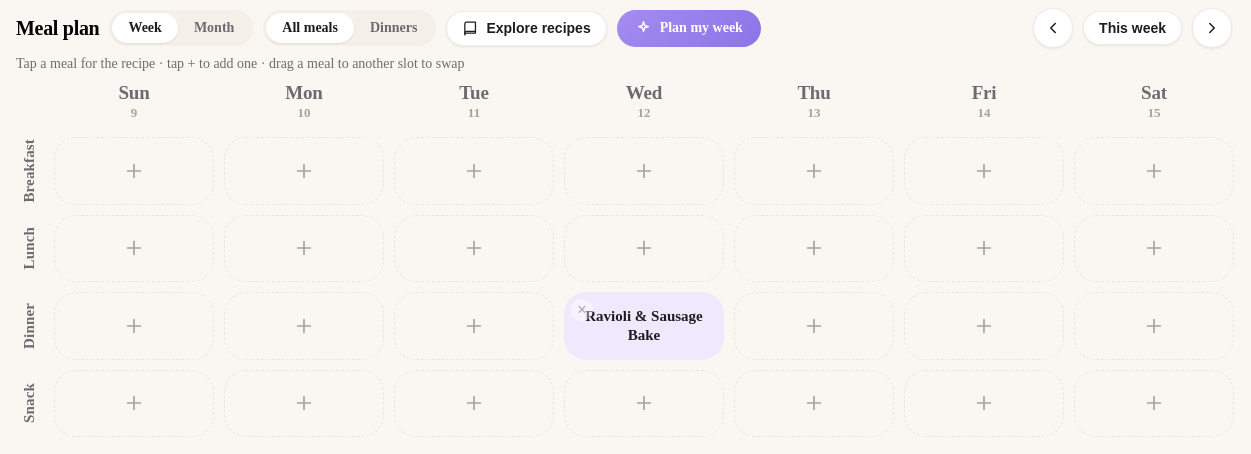
Test: Meals weekly planner › filters to dinners only
Expected: the text "Ravioli & Sausage Bake" is shown, top-left (577, 307), bottom-right (711, 344)
Click the button "Dinners". click: (394, 28)
box: top-left (354, 13), bottom-right (433, 43)
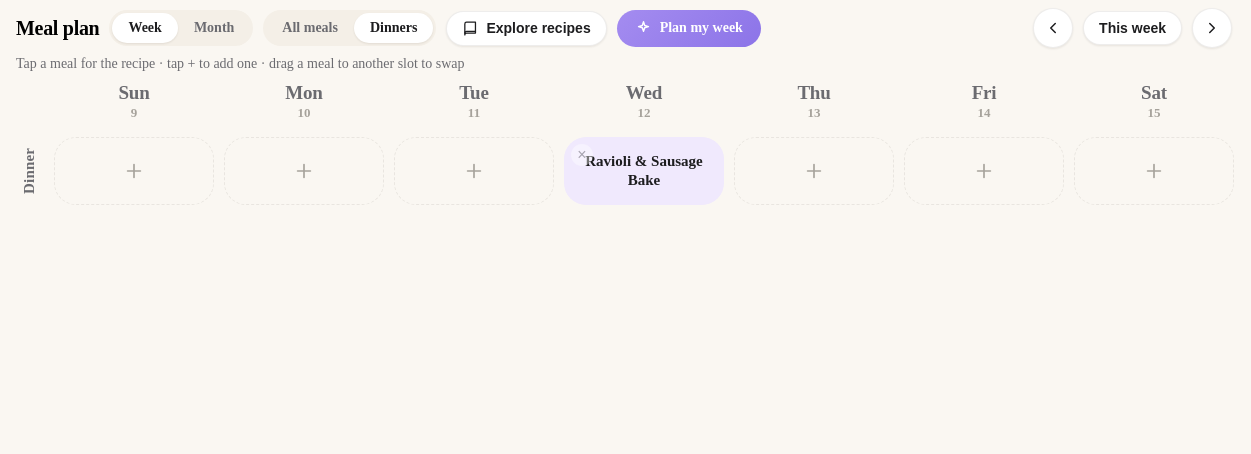
Expected: the text "Dinner" is shown, top-left (20, 148), bottom-right (38, 194)
Result: the text "Breakfast" is gone
